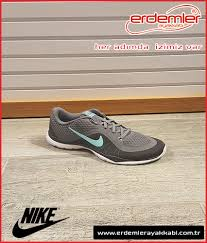nike: (68, 126, 104, 148)
